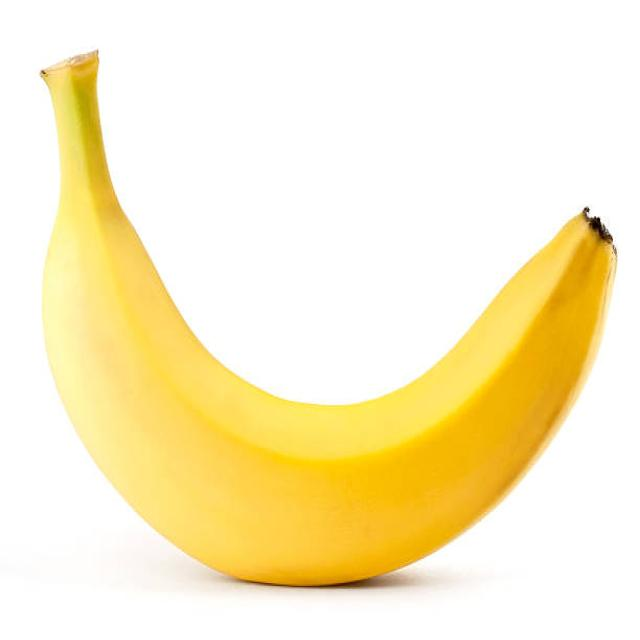Ripe: (38, 38, 620, 588)
